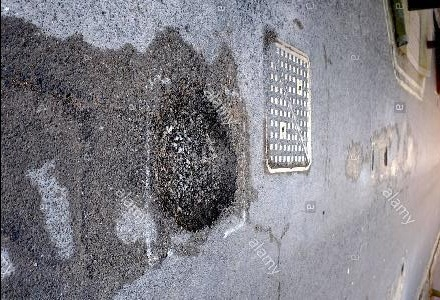pothole: (145, 75, 242, 233), (382, 143, 389, 170)
